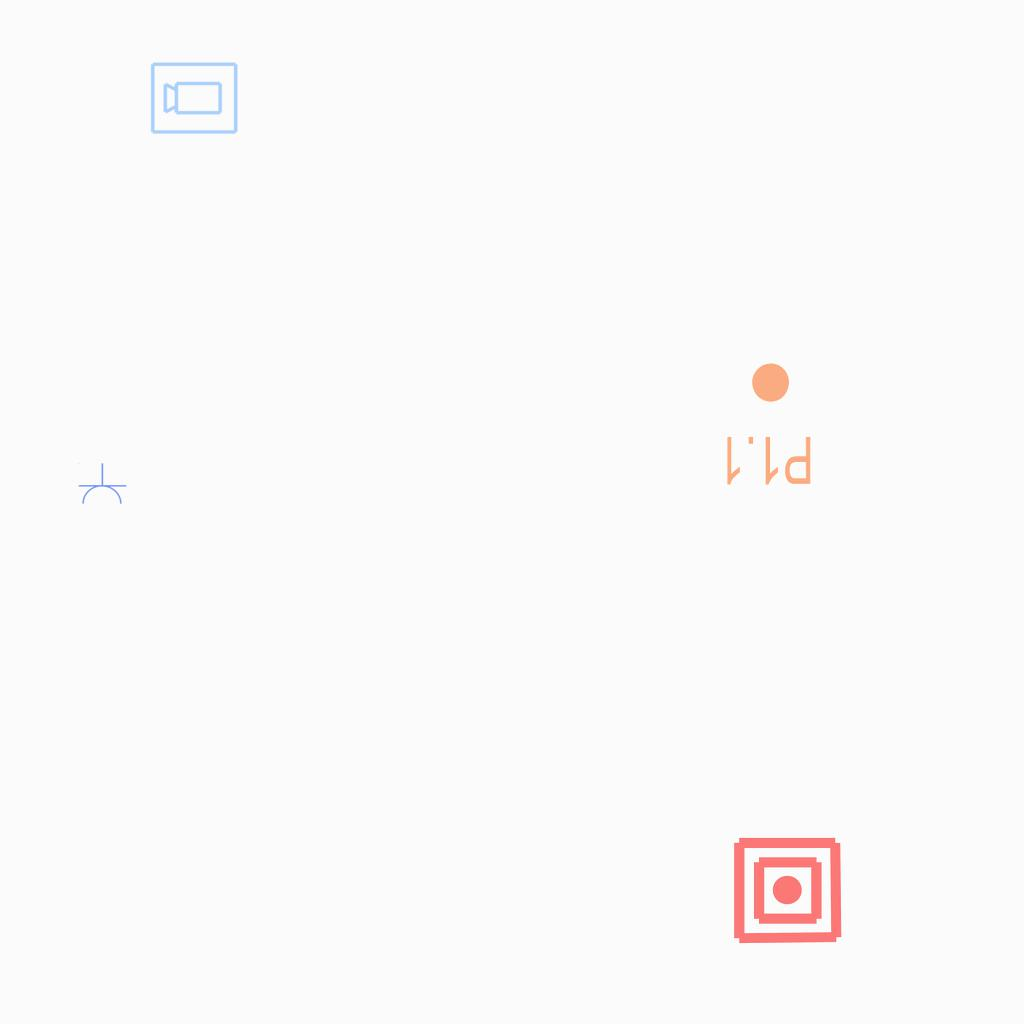Downlight_LED_Einbauleuchten_Flur: (721, 360, 814, 488)
KFO_Kamera_mit_Festobjektiv: (149, 59, 240, 136)
NAM-Nichtautomatischer_Melder: (731, 834, 844, 947)
Schukosteckdose_einfach: (77, 463, 127, 506)
